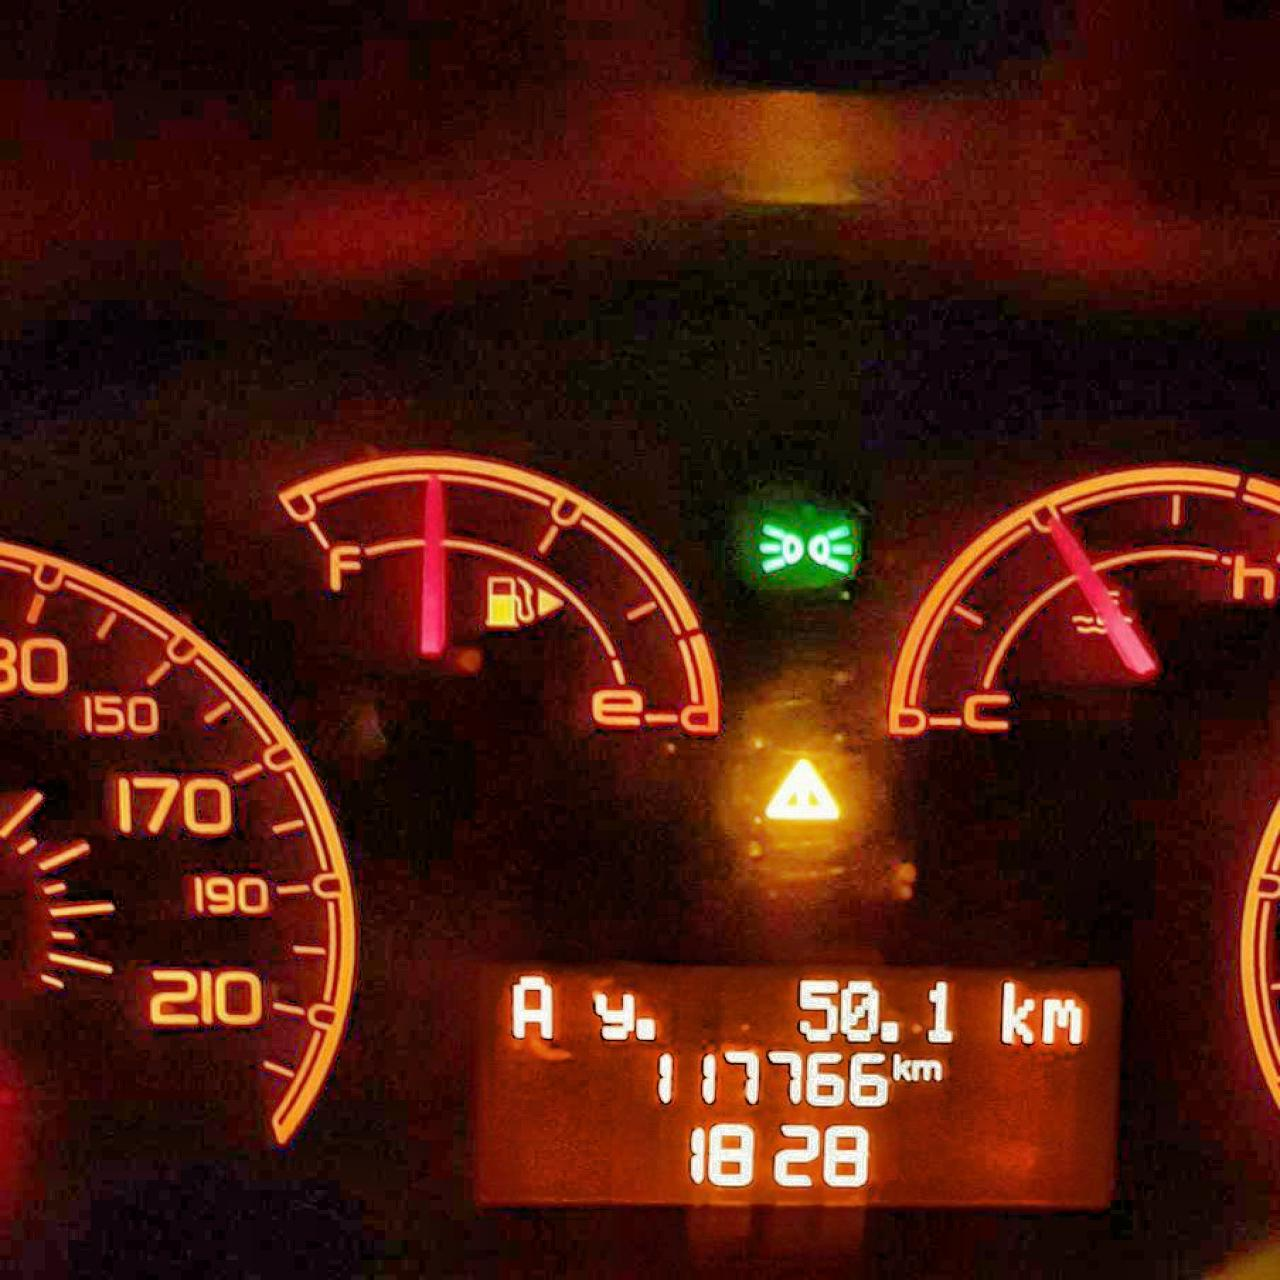-: (878, 1016, 903, 1046), (634, 1015, 656, 1043)
0: (838, 976, 880, 1042)
1: (922, 973, 956, 1047), (696, 1048, 716, 1108), (688, 1122, 704, 1187), (655, 1050, 674, 1107)
2: (770, 1121, 818, 1187)
5: (796, 976, 838, 1042)
6: (804, 1050, 846, 1107), (849, 1050, 887, 1109)
7: (765, 1046, 803, 1105), (722, 1049, 760, 1105)
8: (708, 1119, 755, 1189), (823, 1123, 870, 1186)
X: (510, 972, 553, 1040), (998, 979, 1035, 1043), (1039, 994, 1083, 1046), (592, 990, 634, 1040), (911, 1056, 942, 1083), (891, 1051, 911, 1081)
odometer: (463, 958, 1126, 1212)
